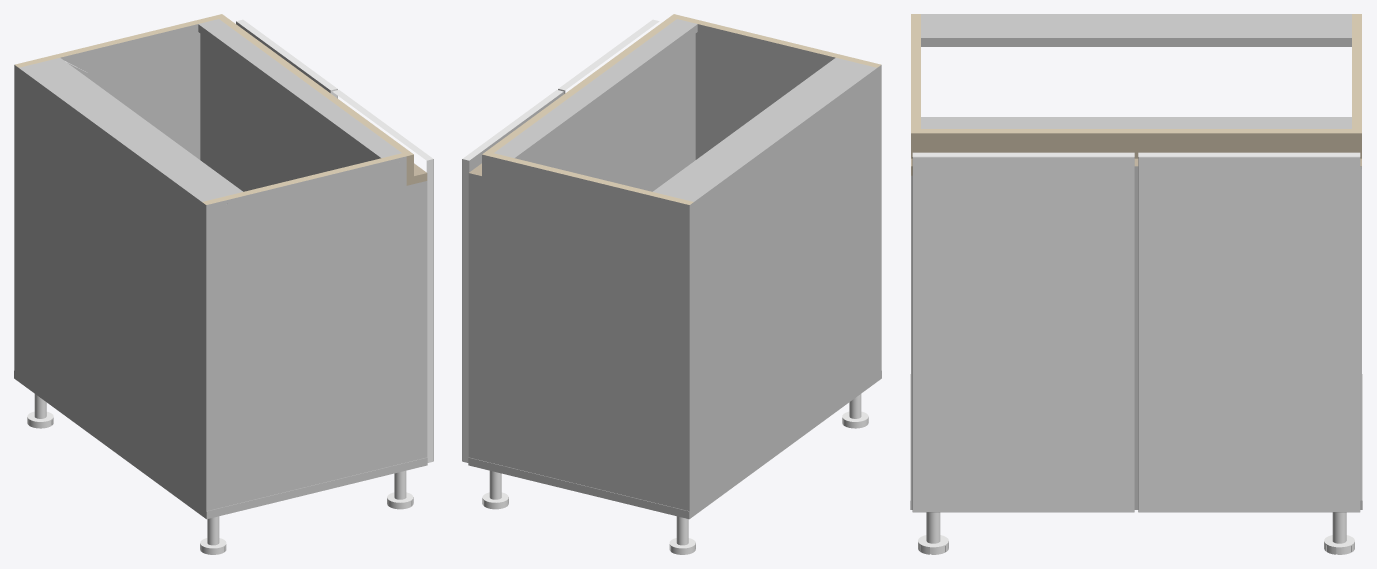
3 renders of one model, left to right at view 1: azimuth 30°, elevation 25°; view 2: azimuth 150°, elevation 25°; view 3: azimuth 270°, elevation 25°, orthographic. The views are drawn at different scales.
Visible parts, largest first — view 1: Group1, Group2; view 2: Group1, Group2; view 3: Group1, Group2.
Boxes of the visible parts, bbox=[...] form: Group1: bbox=[14, 14, 433, 519]; Group2: bbox=[27, 394, 413, 554]; Group1: bbox=[462, 14, 881, 519]; Group2: bbox=[482, 394, 868, 554]; Group1: bbox=[910, 14, 1362, 512]; Group2: bbox=[918, 512, 1354, 554].
Bounding box in the file's own units: 550 × 817 × 802.
